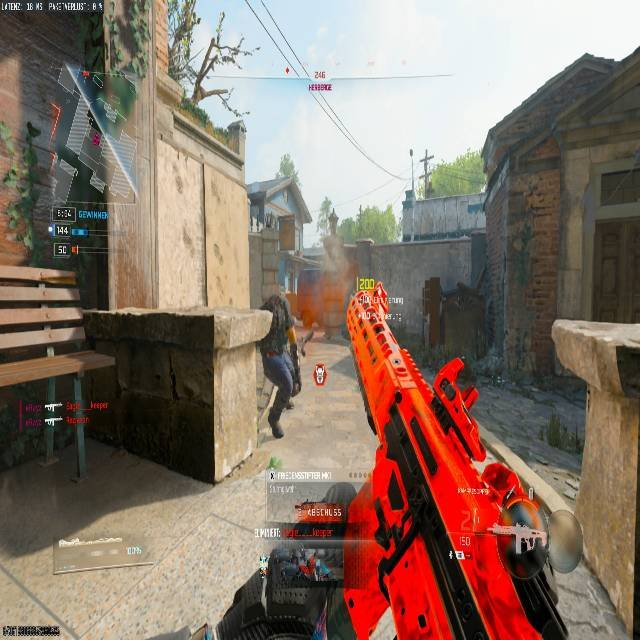player: (256, 292, 300, 438)
